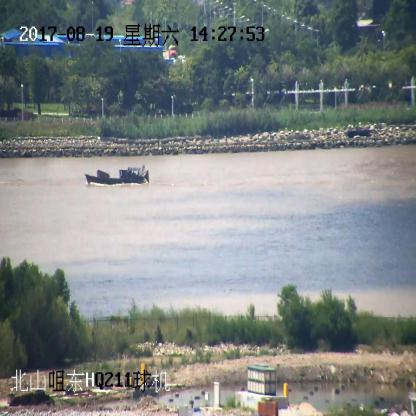Fishing Boat: (86, 166, 150, 184)
